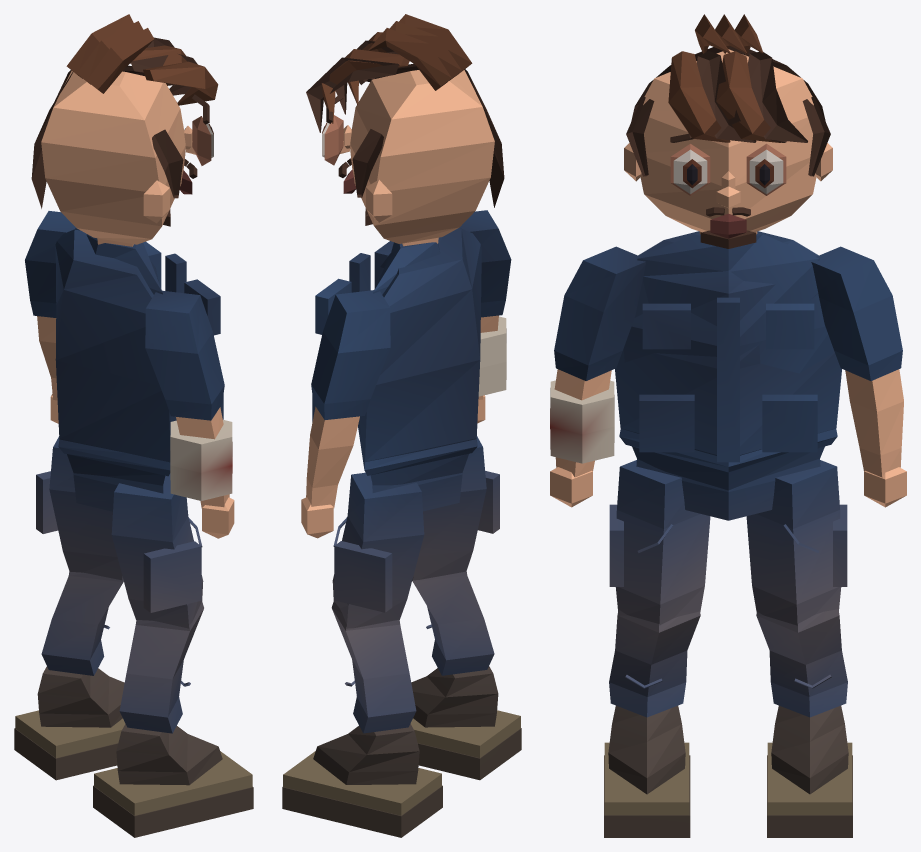
3 views of the same model, side by side, from view 1: azimuth 30°, elevation 25°; view 2: azimuth 150°, elevation 25°; view 3: azimuth 270°, elevation 25° (orthographic). The views are drawn at different scales.
Parts seen in each view (by area): view 1: torso_pal_picketWhite, head_pal_skinWarm, footR_pal_picketWhite, legR_pal_picketWhite, head_pal_picketWhite, footL_pal_picketWhite, armR_pal_picketWhite, shinR_pal_picketWhite, legL_pal_picketWhite, shinL_pal_picketWhite, foreArmR_pal_picketWhite, armL_pal_picketWhite (+4 smaller); view 2: torso_pal_picketWhite, head_pal_skinWarm, footL_pal_picketWhite, legL_pal_picketWhite, head_pal_picketWhite, footR_pal_picketWhite, armL_pal_picketWhite, shinL_pal_picketWhite, legR_pal_picketWhite, shinR_pal_picketWhite, foreArmL_pal_skinWarm, armR_pal_picketWhite (+3 smaller); view 3: torso_pal_picketWhite, head_pal_picketWhite, head_pal_skinWarm, legR_pal_picketWhite, legL_pal_picketWhite, footR_pal_picketWhite, footL_pal_picketWhite, armR_pal_picketWhite, armL_pal_picketWhite, shinL_pal_picketWhite, shinR_pal_picketWhite, foreArmL_pal_skinWarm (+5 smaller).
Part boxes in pixels (x1,y1,x2,y2): torso_pal_picketWhite: (55, 228, 223, 485); head_pal_skinWarm: (41, 71, 211, 246); footR_pal_picketWhite: (93, 724, 253, 837); legR_pal_picketWhite: (111, 473, 203, 628); head_pal_picketWhite: (31, 14, 218, 226); footL_pal_picketWhite: (14, 666, 125, 780); armR_pal_picketWhite: (145, 290, 224, 420); shinR_pal_picketWhite: (119, 601, 203, 733); legL_pal_picketWhite: (36, 436, 122, 580); shinL_pal_picketWhite: (41, 571, 123, 675); foreArmR_pal_picketWhite: (170, 419, 232, 500); armL_pal_picketWhite: (25, 211, 76, 317); torso_pal_picketWhite: (312, 227, 481, 485); head_pal_skinWarm: (324, 70, 494, 246); footL_pal_picketWhite: (282, 724, 442, 837); legL_pal_picketWhite: (332, 472, 424, 628); head_pal_picketWhite: (306, 14, 504, 225); footR_pal_picketWhite: (410, 666, 521, 780); armL_pal_picketWhite: (311, 290, 390, 419); shinL_pal_picketWhite: (331, 601, 416, 733); legR_pal_picketWhite: (413, 436, 499, 580); shinR_pal_picketWhite: (412, 571, 494, 675); foreArmL_pal_skinWarm: (306, 406, 359, 507); armR_pal_picketWhite: (460, 210, 511, 317); torso_pal_picketWhite: (615, 231, 841, 490); head_pal_picketWhite: (626, 14, 830, 248); head_pal_skinWarm: (624, 49, 832, 234); legR_pal_picketWhite: (609, 460, 710, 625); legL_pal_picketWhite: (746, 460, 847, 625); footR_pal_picketWhite: (604, 705, 690, 837); footL_pal_picketWhite: (767, 705, 852, 837); armR_pal_picketWhite: (554, 246, 645, 380); armL_pal_picketWhite: (811, 246, 902, 380); shinL_pal_picketWhite: (756, 609, 847, 717); shinR_pal_picketWhite: (609, 609, 700, 717); foreArmL_pal_skinWarm: (845, 369, 903, 477).
Bounding box in the file's own units: 0.3476 × 1.43 × 0.5911.
